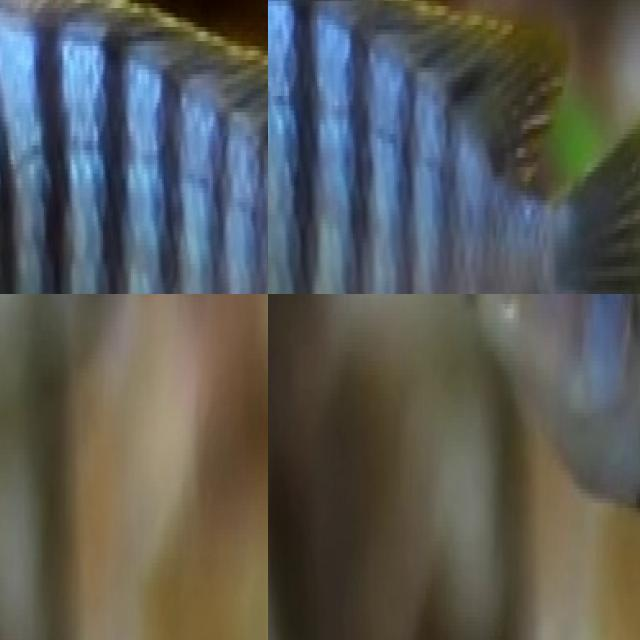fish: (268, 0, 640, 294), (342, 294, 640, 583), (0, 0, 268, 294)
